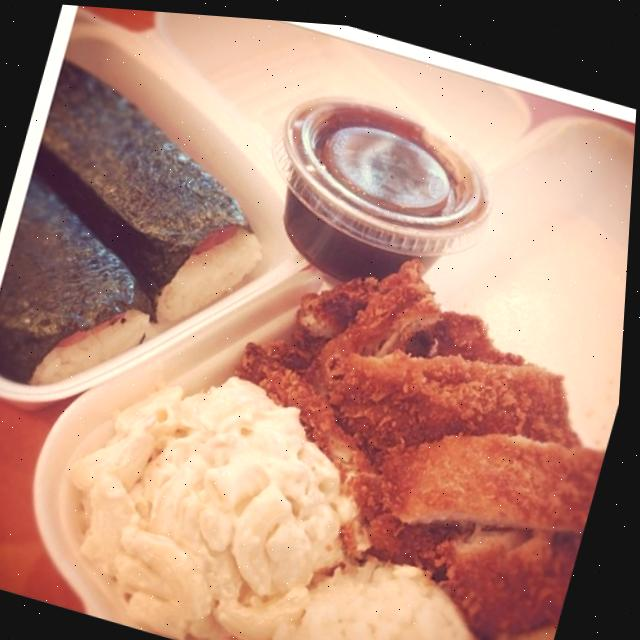寿司卷物: (0, 12, 319, 451)
